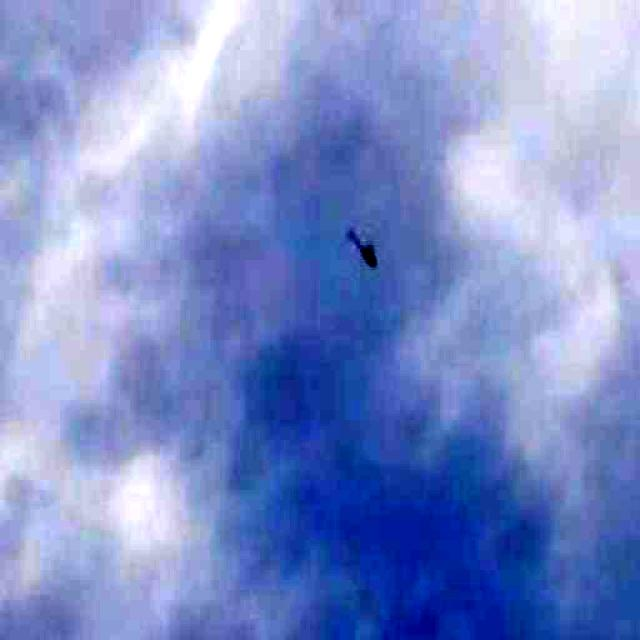drone: (340, 209, 388, 284)
